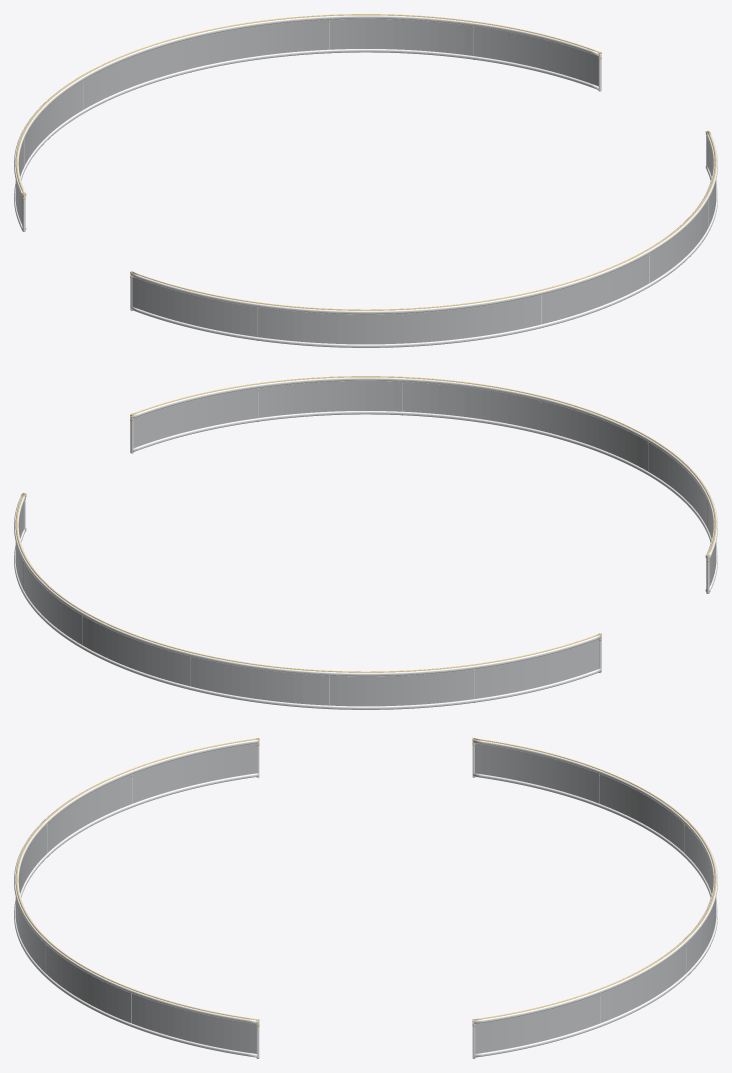
Rendered from arena_football_band.glb.
The picture shows the model from 3 angles, top to bottom: view 1: azimuth 30°, elevation 25°; view 2: azimuth 150°, elevation 25°; view 3: azimuth 270°, elevation 25°; orthographic projection.
Visible parts, largest first — view 1: AF_Band_Glass_1, AF_Band_Glass_0, AF_Band_TopRail_1, AF_Band_TopRail_0, AF_Band_BottomRail_1, AF_Band_BottomRail_0, AF_Band_GoldTrim_1, AF_Band_GoldTrim_0; view 2: AF_Band_Glass_0, AF_Band_Glass_1, AF_Band_TopRail_0, AF_Band_TopRail_1, AF_Band_BottomRail_0, AF_Band_BottomRail_1, AF_Band_GoldTrim_0, AF_Band_GoldTrim_1; view 3: AF_Band_Glass_0, AF_Band_Glass_1, AF_Band_TopRail_0, AF_Band_TopRail_1, AF_Band_BottomRail_0, AF_Band_BottomRail_1, AF_Band_GoldTrim_0, AF_Band_GoldTrim_1.
Boxes of the visible parts, box(x1,y1,x2,y2) form: AF_Band_Glass_1: box(132, 138, 716, 344); AF_Band_Glass_0: box(15, 18, 598, 224); AF_Band_TopRail_1: box(130, 132, 717, 314); AF_Band_TopRail_0: box(14, 15, 598, 196); AF_Band_BottomRail_1: box(130, 166, 717, 347); AF_Band_BottomRail_0: box(14, 49, 598, 230); AF_Band_GoldTrim_1: box(132, 131, 716, 310); AF_Band_GoldTrim_0: box(15, 14, 599, 192); AF_Band_Glass_0: box(15, 500, 599, 706); AF_Band_Glass_1: box(133, 380, 716, 586); AF_Band_TopRail_0: box(14, 494, 601, 676); AF_Band_TopRail_1: box(133, 377, 717, 558); AF_Band_BottomRail_0: box(14, 528, 601, 709); AF_Band_BottomRail_1: box(133, 411, 717, 592); AF_Band_GoldTrim_0: box(15, 493, 599, 672); AF_Band_GoldTrim_1: box(132, 376, 716, 554); AF_Band_Glass_0: box(475, 743, 716, 1053); AF_Band_Glass_1: box(15, 743, 256, 1053); AF_Band_TopRail_0: box(473, 739, 717, 1023); AF_Band_TopRail_1: box(14, 739, 258, 1023); AF_Band_BottomRail_0: box(473, 773, 717, 1057); AF_Band_BottomRail_1: box(14, 773, 258, 1057); AF_Band_GoldTrim_0: box(474, 738, 716, 1019); AF_Band_GoldTrim_1: box(15, 738, 257, 1019).
Size of the model in its own units: 18.19 by 1.17 by 19.13.
